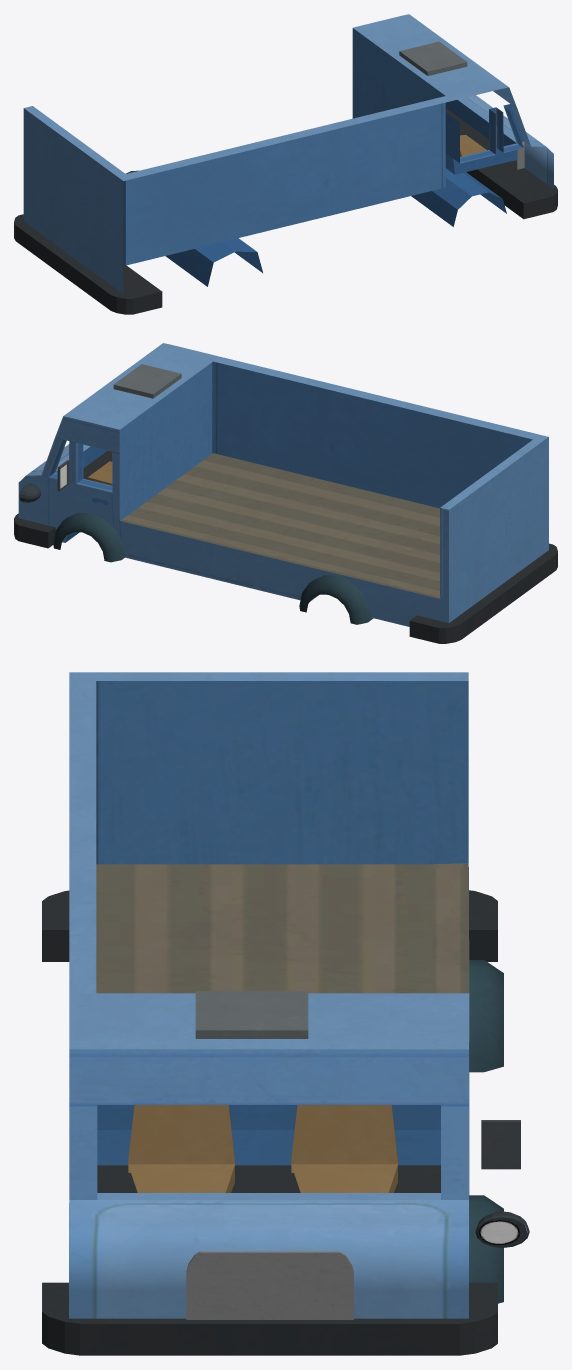
Rendered from FoodTruck Back.fbx.
The picture shows the model from 3 angles, top to bottom: view 1: azimuth 30°, elevation 25°; view 2: azimuth 150°, elevation 25°; view 3: azimuth 270°, elevation 25°; orthographic projection. The views are drawn at different scales.
Parts seen in each view (by area): view 1: FoodTruck Back; view 2: FoodTruck Back; view 3: FoodTruck Back.
Boxes of the visible parts, x1,y1,x2,y2 form: FoodTruck Back: (14, 14, 557, 314); FoodTruck Back: (14, 343, 557, 643); FoodTruck Back: (42, 672, 529, 1355).
Bounding box in the file's own units: 15.12 × 4.33 × 7.17.
2 materials, 2 textured.
